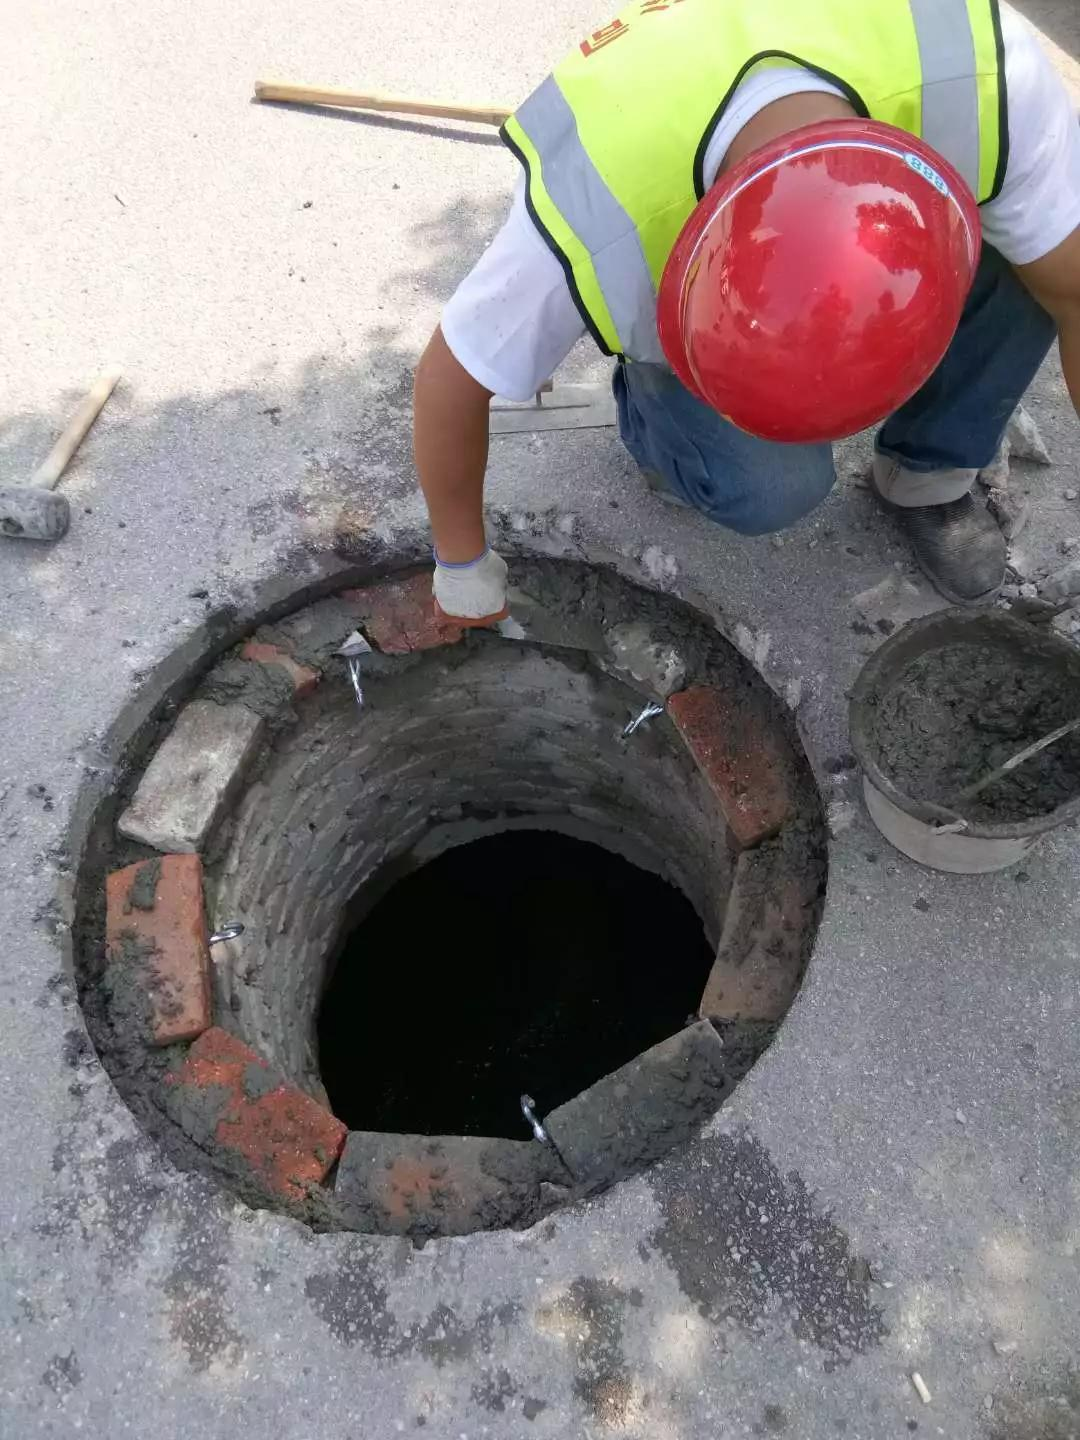helmet: (651, 115, 974, 451)
